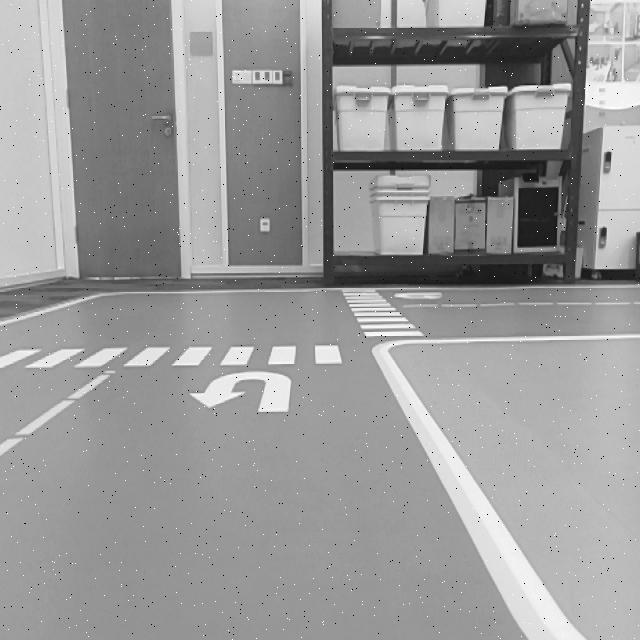left_lane: (0, 369, 115, 462)
right_lane: (371, 348, 558, 640), (1, 294, 102, 327)
